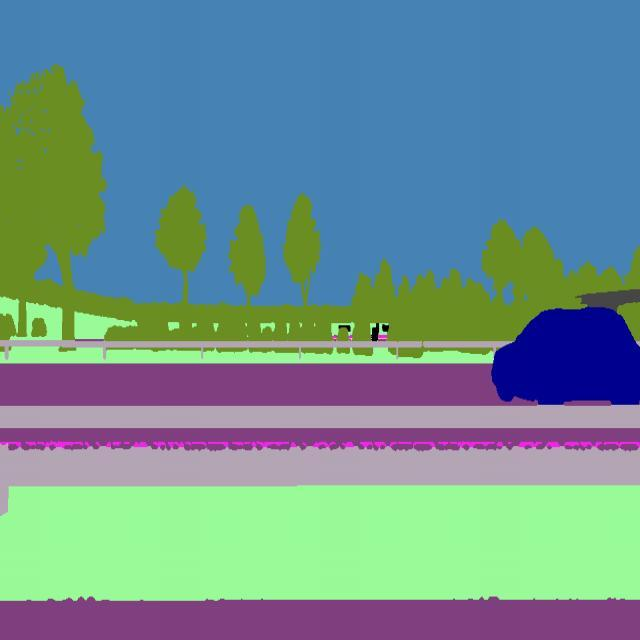safe: (486, 306, 640, 410)
